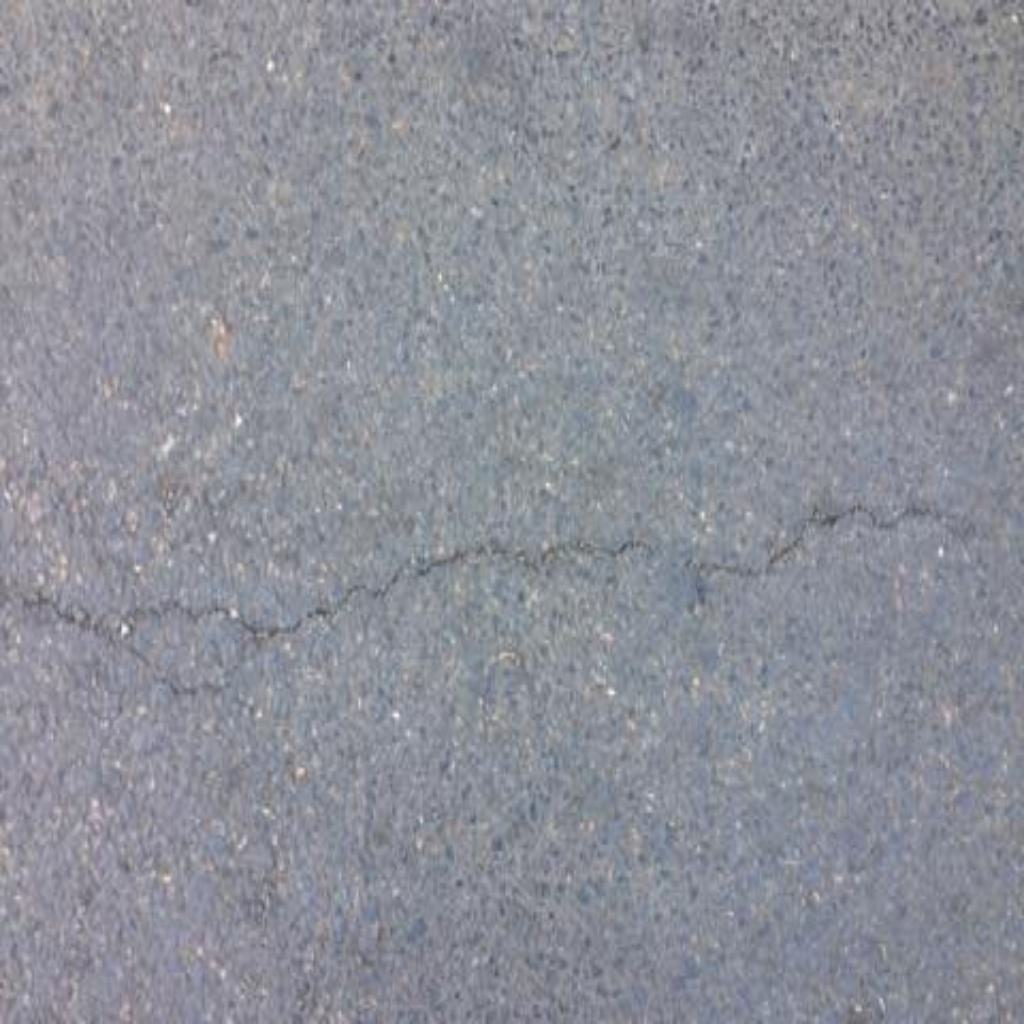Crack: (1, 503, 1024, 698)
